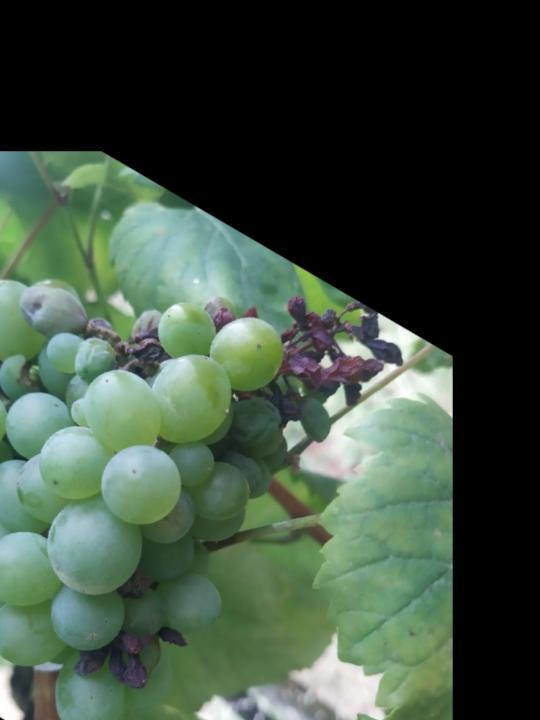grape: (0, 120, 424, 720)
